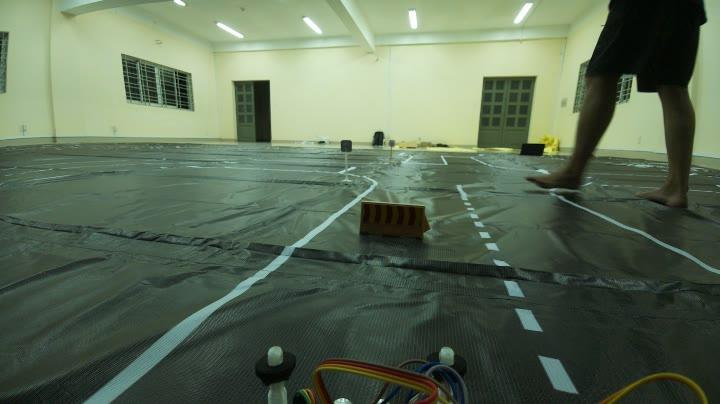roadblock: (358, 192, 444, 264)
